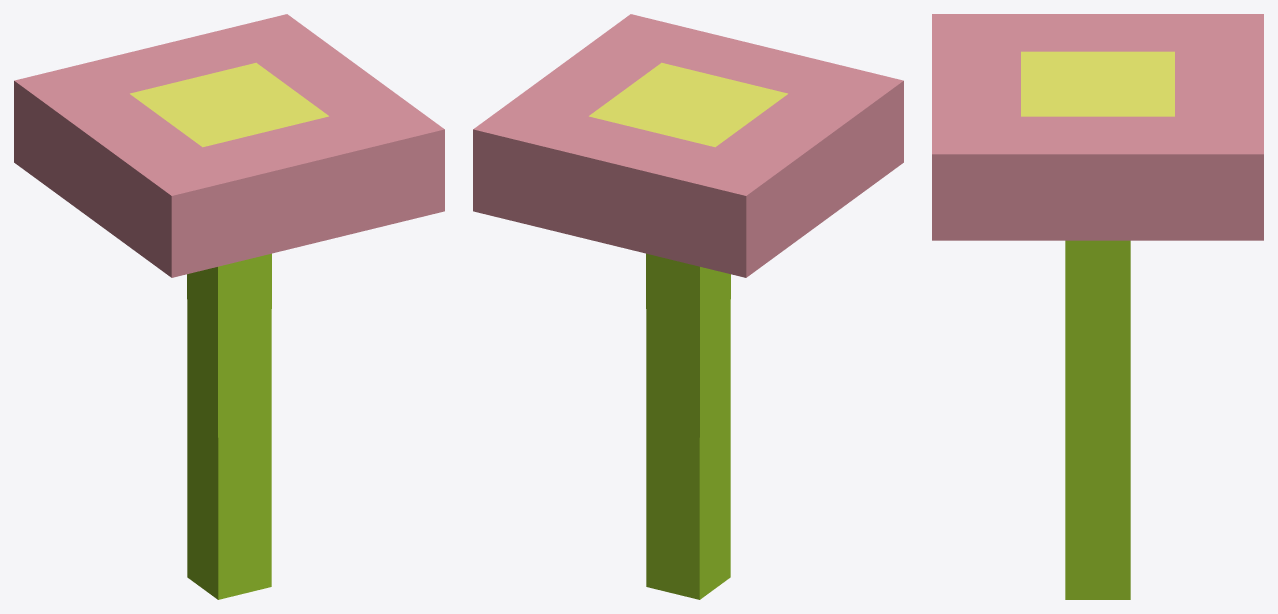
The model's file is Flower_01.fbx.
The picture shows the model from 3 angles, left to right: view 1: azimuth 30°, elevation 25°; view 2: azimuth 150°, elevation 25°; view 3: azimuth 270°, elevation 25°; orthographic projection. The views are drawn at different scales.
Parts seen in each view (by area): view 1: Flower_01; view 2: Flower_01; view 3: Flower_01.
Boxes of the visible parts, x1,y1,x2,y2 form: Flower_01: (14,14,444,599); Flower_01: (473,14,903,599); Flower_01: (932,14,1263,599).
Bounding box in the file's own units: 28.19 × 47.07 × 28.19.
